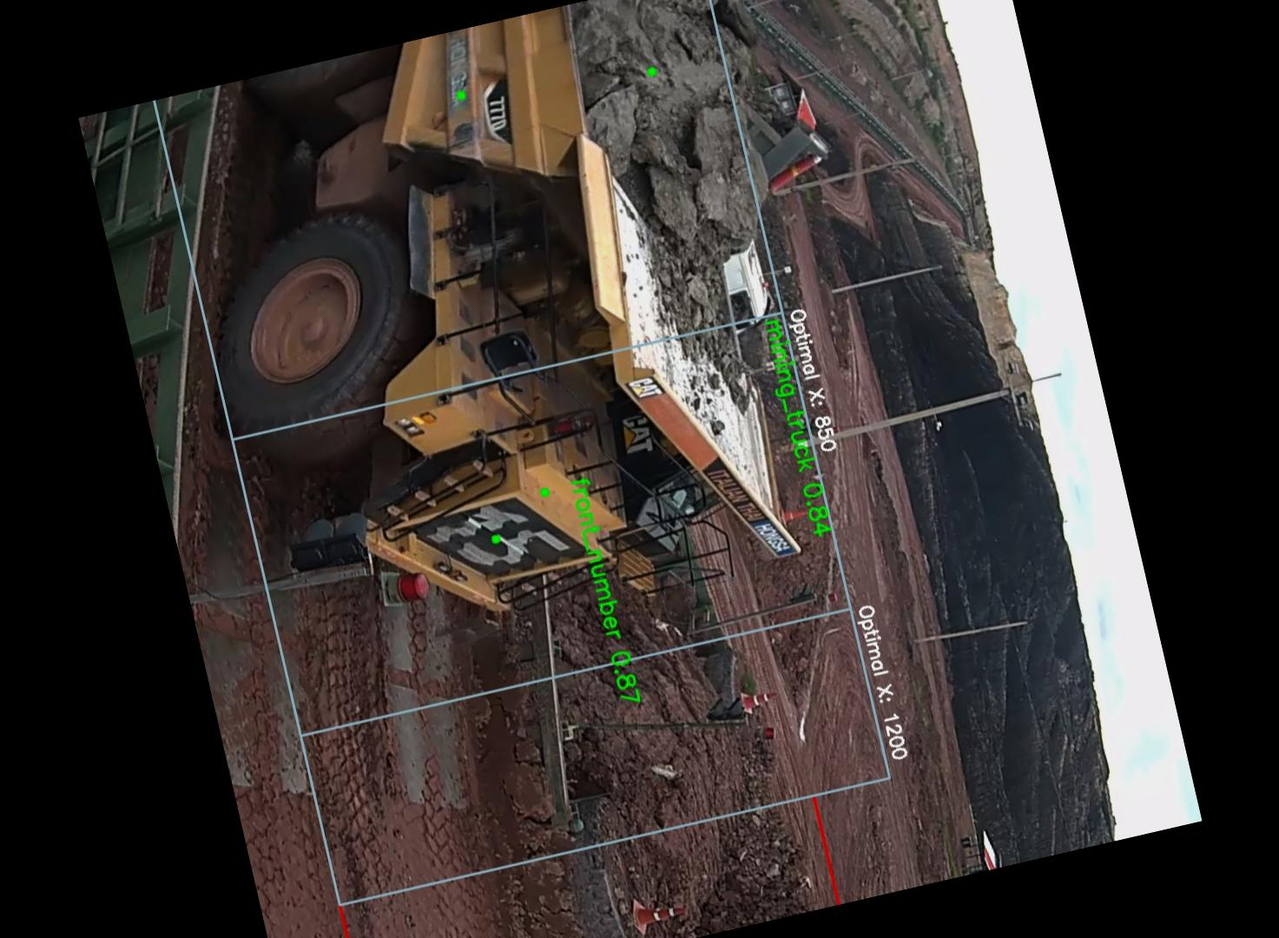company: (415, 24, 500, 109)
full_load: (532, 0, 794, 260)
mining_truck: (149, 0, 890, 705)
truck_size: (472, 78, 522, 141)
